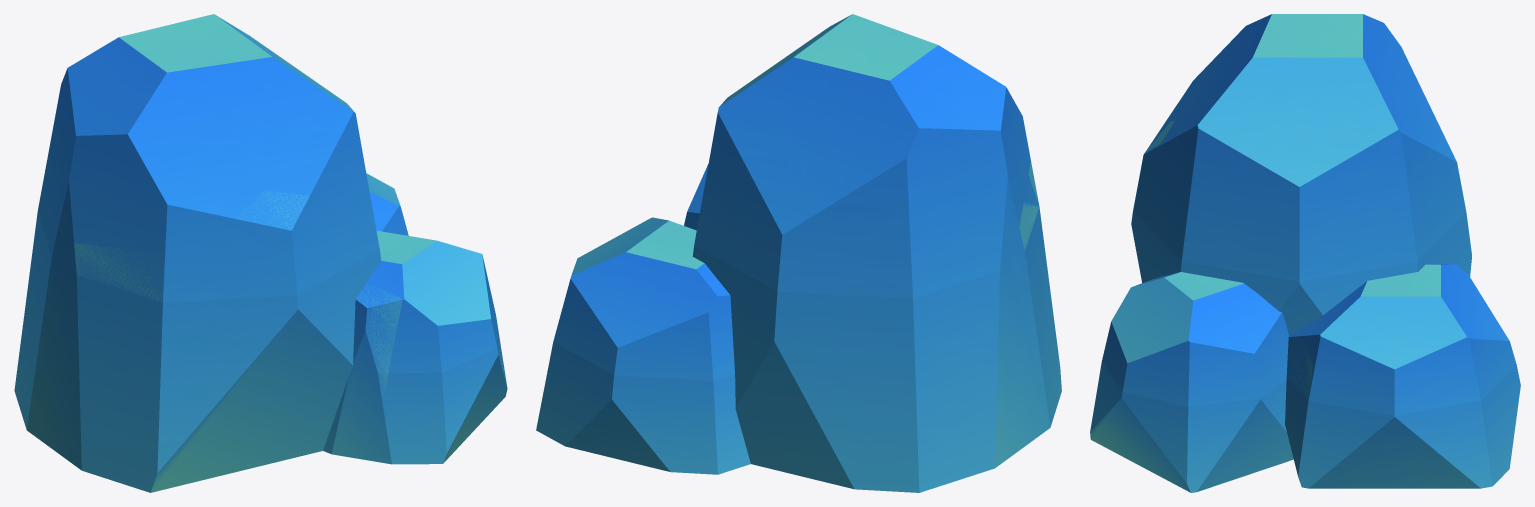
File: Ore_Basic_03.fbx
The picture shows the model from 3 angles, left to right: view 1: azimuth 30°, elevation 25°; view 2: azimuth 150°, elevation 25°; view 3: azimuth 270°, elevation 25°; orthographic projection. The views are drawn at different scales.
Parts seen in each view (by area): view 1: rockC_base, rockC_break1, rockC_break2; view 2: rockC_base, rockC_break1, rockC_break2; view 3: rockC_base, rockC_break1, rockC_break2.
Part boxes in pixels (left/top/right/bottom): rockC_base: left=14, top=14, right=507, bottom=492; rockC_break1: left=27, top=179, right=402, bottom=469; rockC_break2: left=42, top=329, right=354, bottom=473; rockC_base: left=536, top=14, right=1061, bottom=492; rockC_break1: left=693, top=160, right=1049, bottom=492; rockC_break2: left=730, top=295, right=1050, bottom=456; rockC_base: left=1090, top=14, right=1520, bottom=492; rockC_break1: left=1136, top=121, right=1443, bottom=488; rockC_break2: left=1224, top=304, right=1335, bottom=481.
Size of the model in its own units: 2.08 by 1.8 by 2.05.
